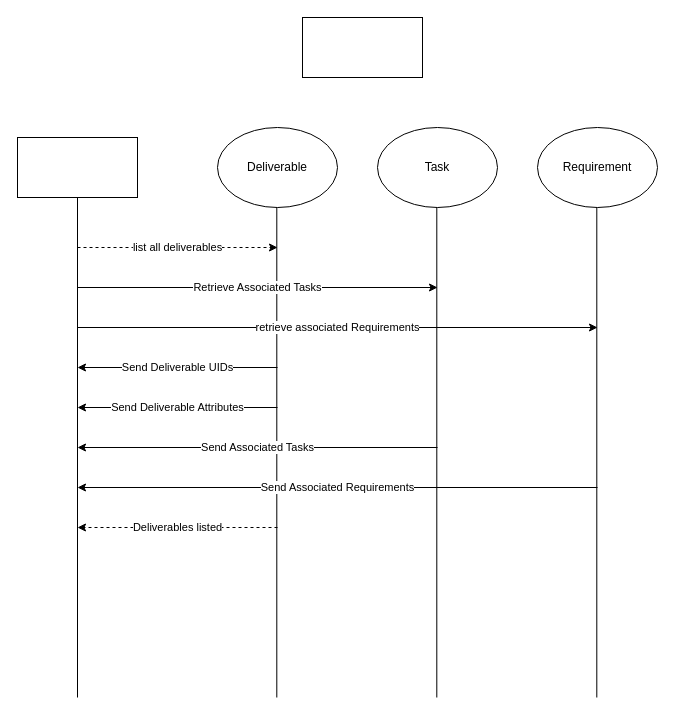
This 675x716 diagram has some shape labels left out. The centre of each missing label's shape, as x and y in pixels:
List All: (x=362, y=47)
User: (x=77, y=167)
